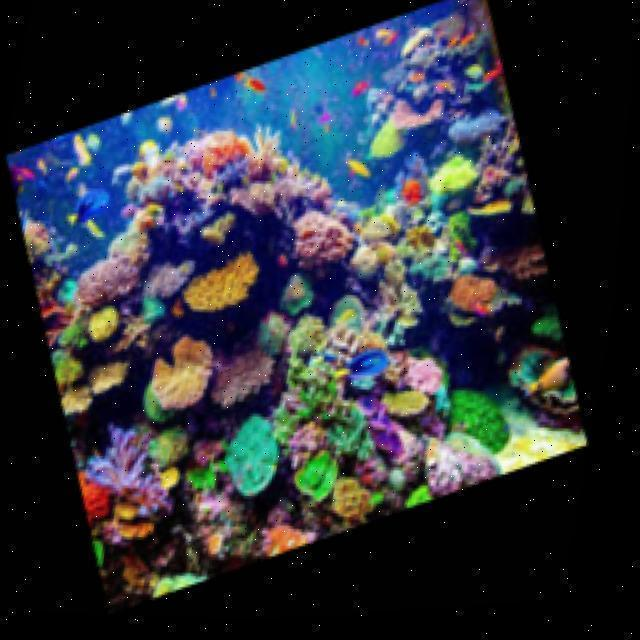Healthy Coral: (53, 113, 372, 406), (192, 312, 472, 489), (117, 319, 247, 495)
